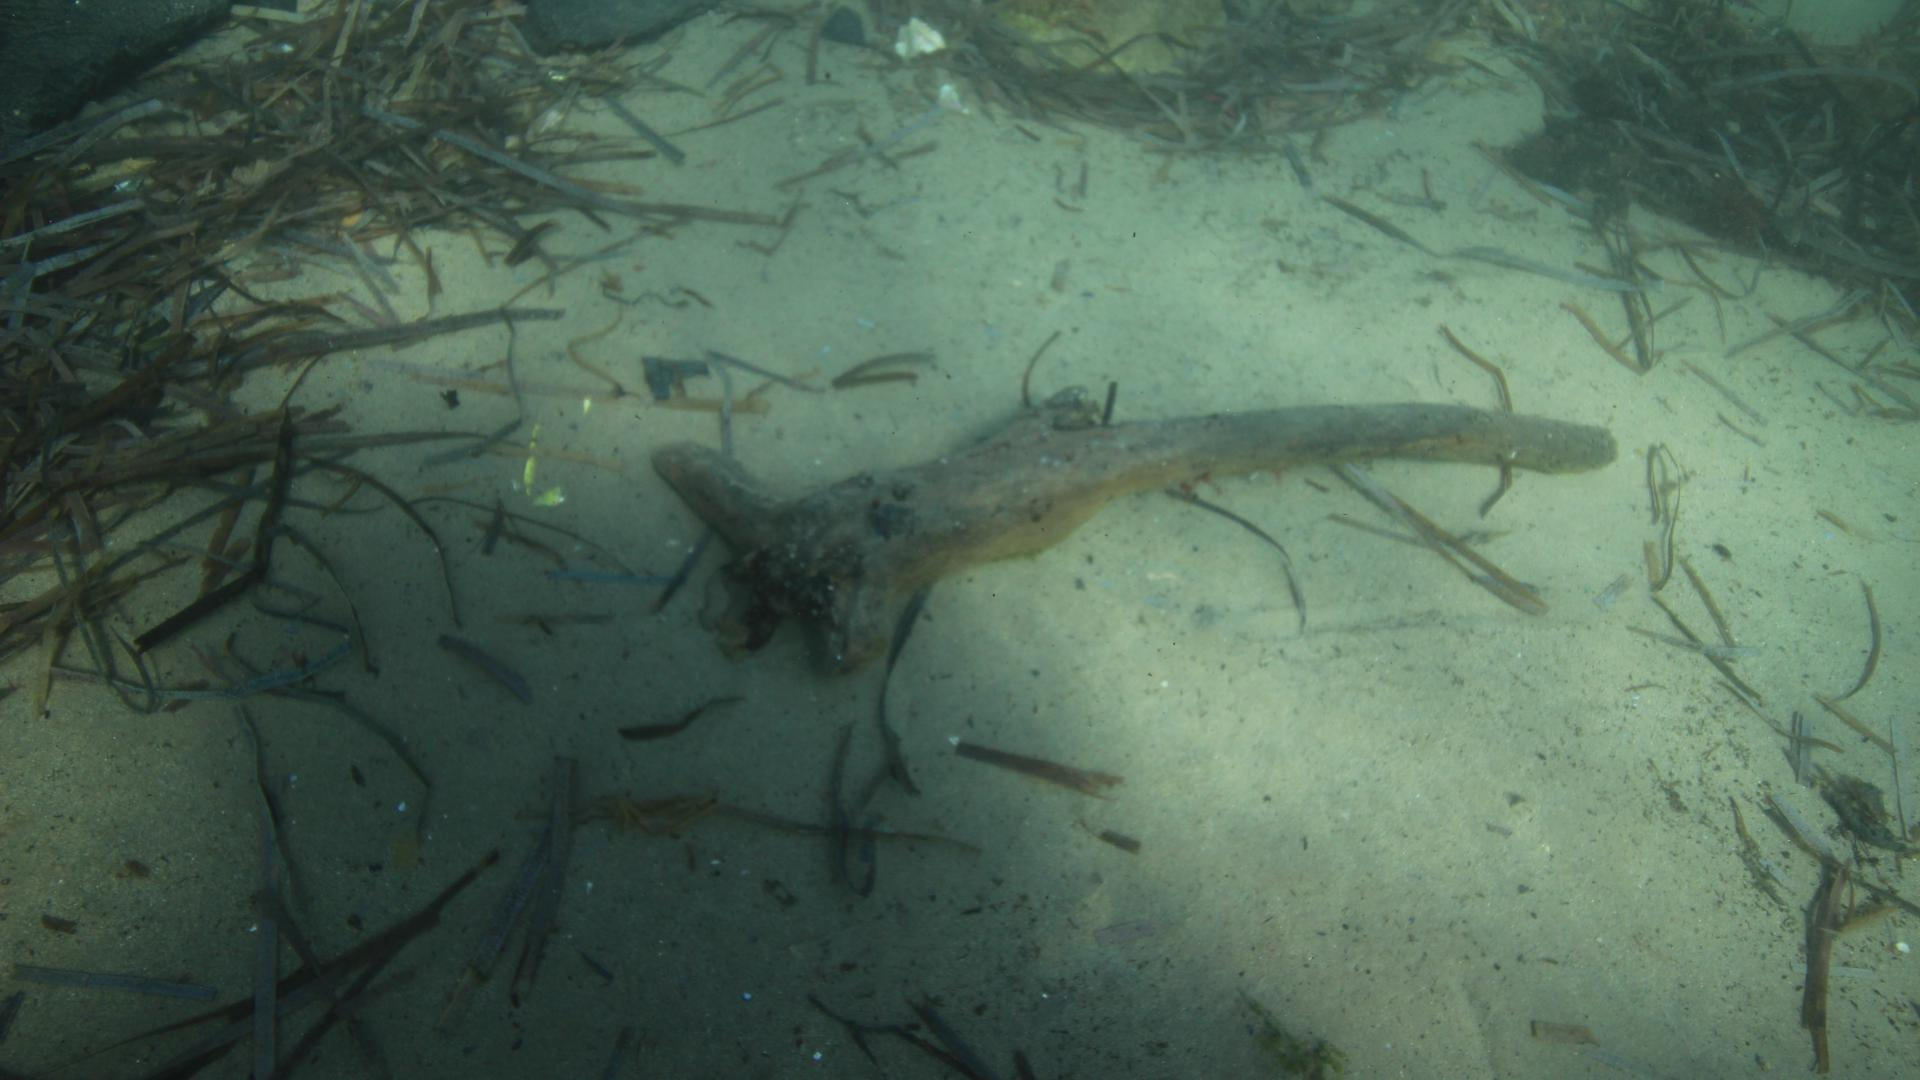wood: (651, 402, 1614, 674)
